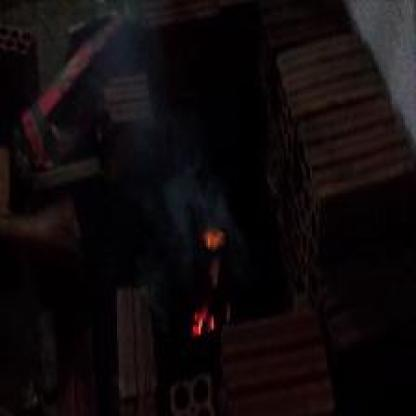fire: (196, 230, 224, 341)
